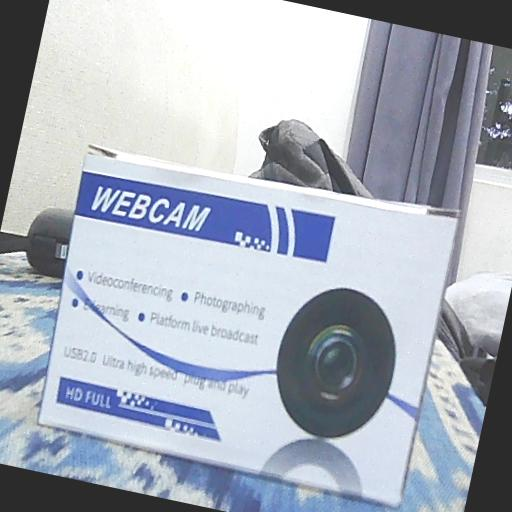webcam_box: (26, 134, 463, 511)
